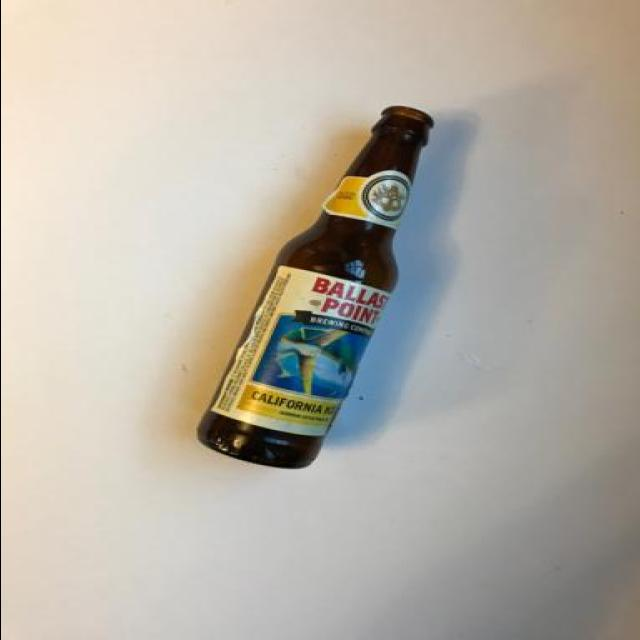litter: (190, 104, 437, 474)
